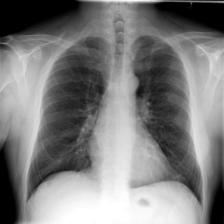normal: (23, 28, 208, 212)
